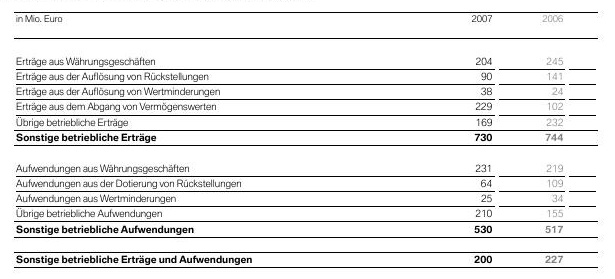table: (0, 0, 615, 279)
